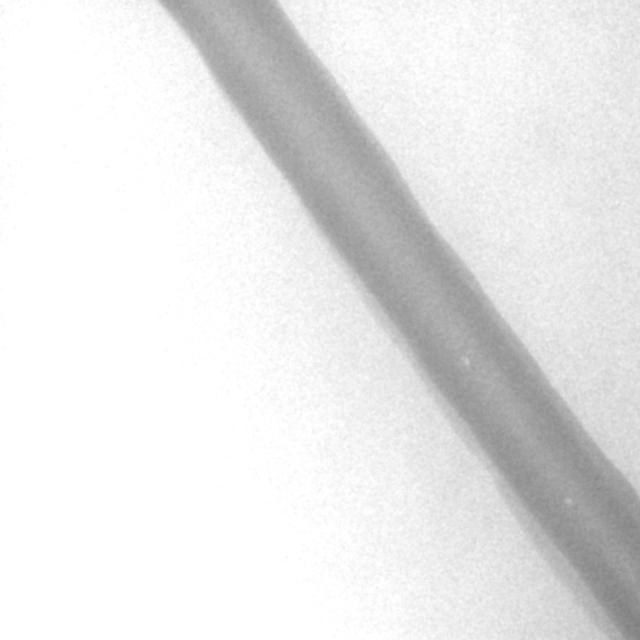air-hole: (464, 355, 471, 368), (564, 499, 576, 506)
